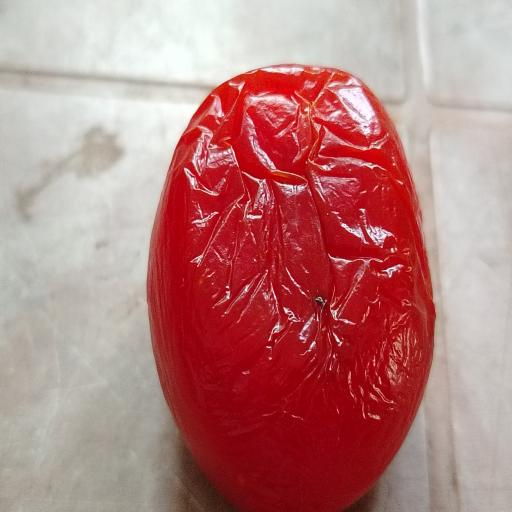spoiled: (148, 66, 435, 512)
